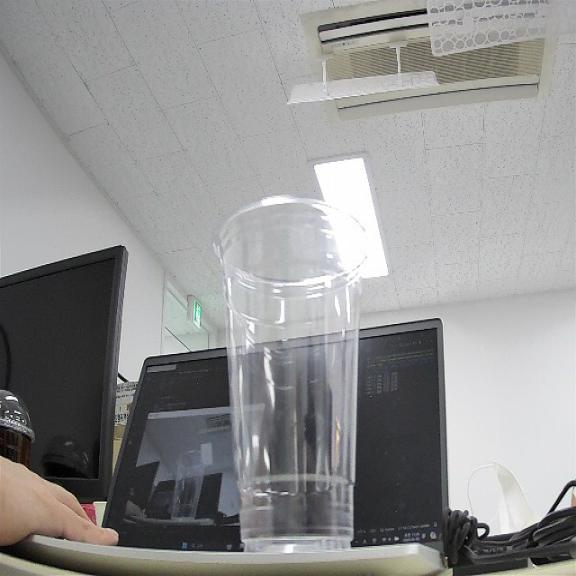Plastik: (215, 196, 364, 550)
